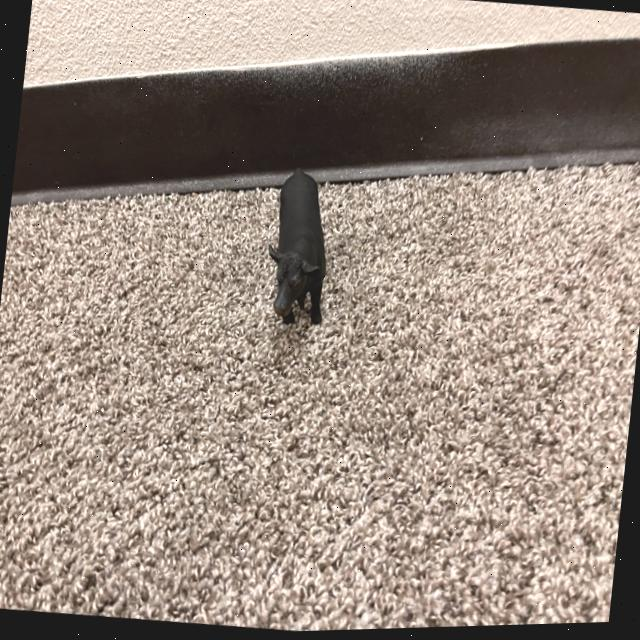cow: (261, 168, 331, 330)
